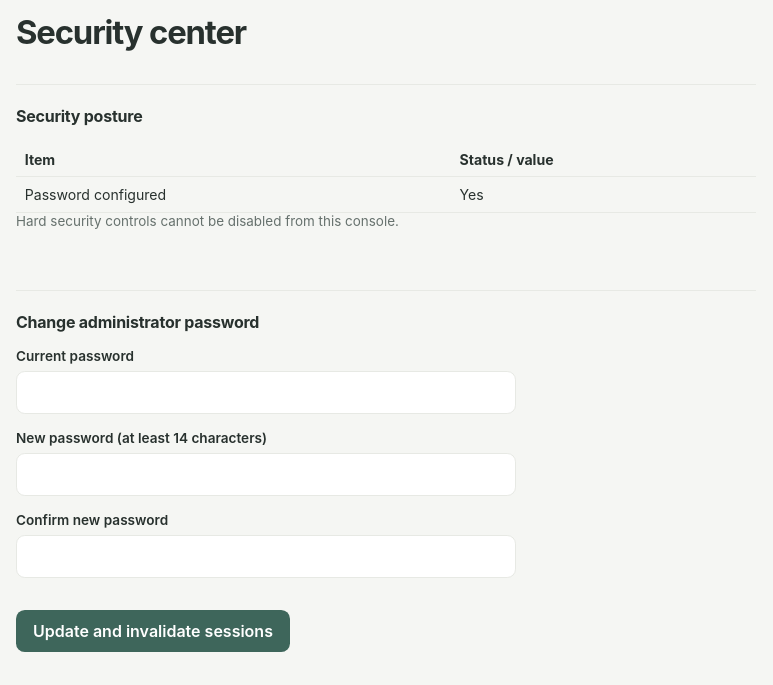
Test case: safe operational console states › Password mismatch is associated with fields and never submitted
Expected: the text "Password configured" is shown, [16,177,451,212]
Type "original-password" into the password field labelled "Current password".
click(266, 392); type("original-password")  # box [16,371,516,414]
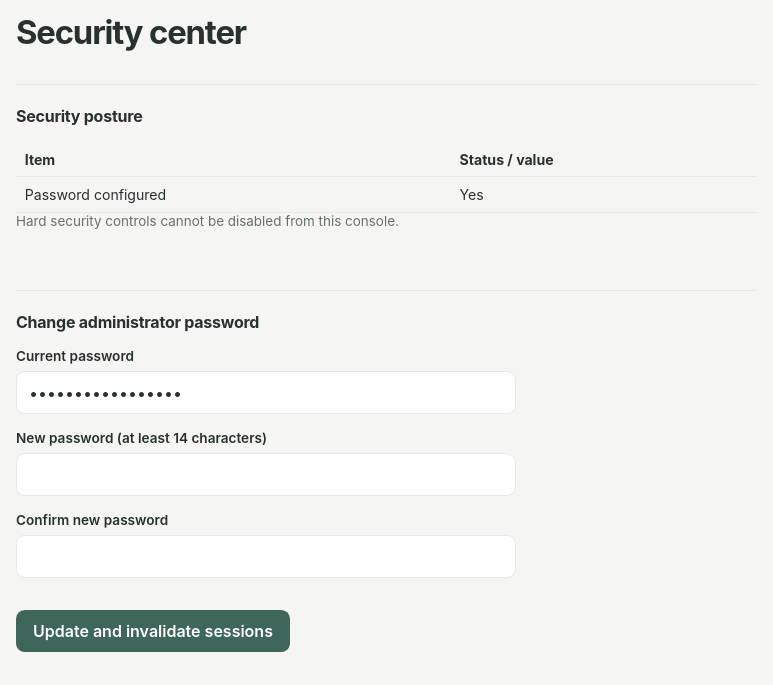
Type "new-password-for-test" into the password field labelled "New password (at least 14 characters)".
click(266, 474); type("new-password-for-test")  # box [16,453,516,496]
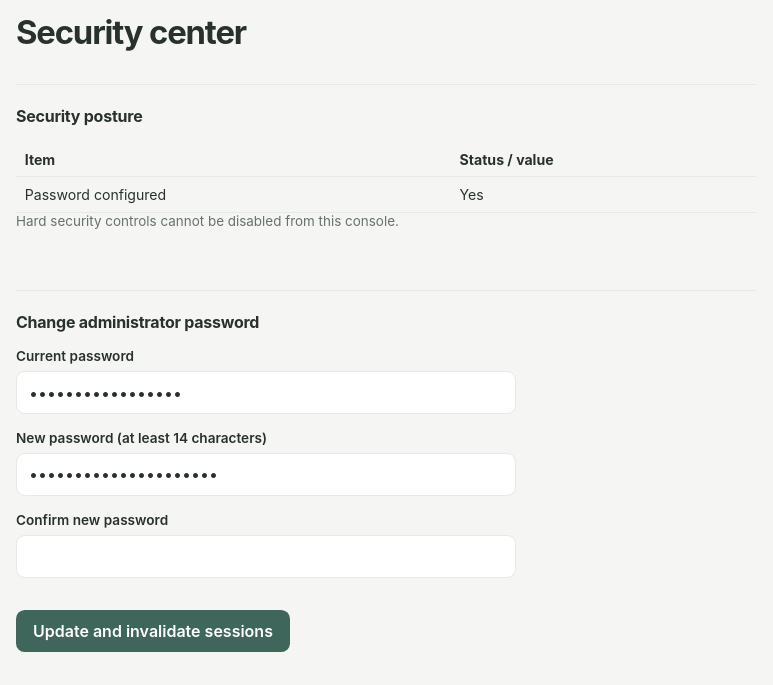
Type "different-password" into the password field labelled "Confirm new password".
click(266, 556); type("different-password")  # box [16,535,516,578]
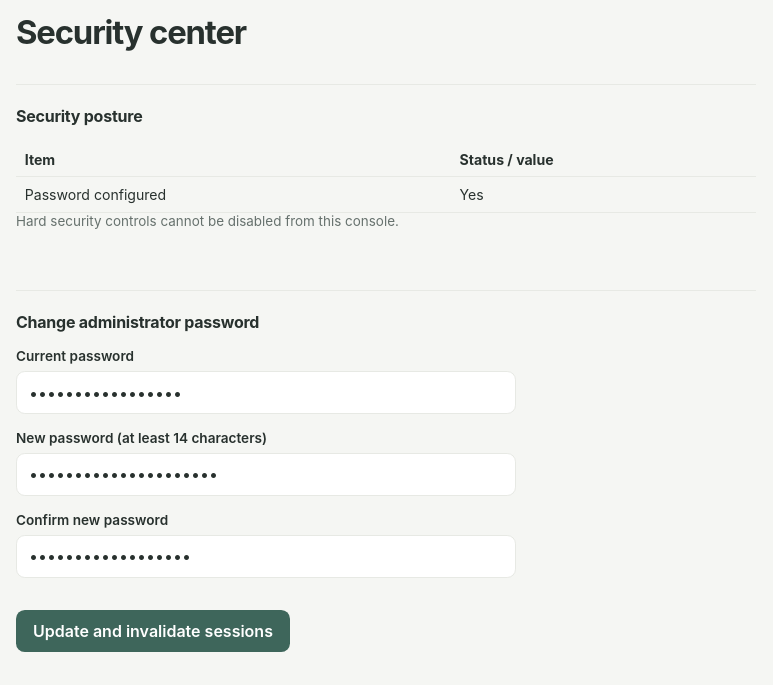
Submit the form named "Update and invalidate sessions", box [16,348,516,652]
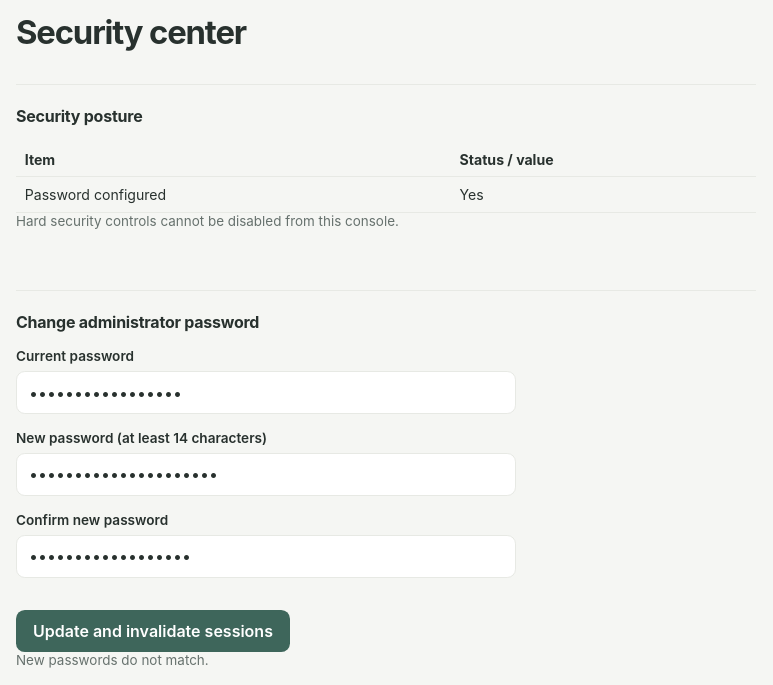
Expected: the message shows "New passwords do not match", [16,652,209,668]
